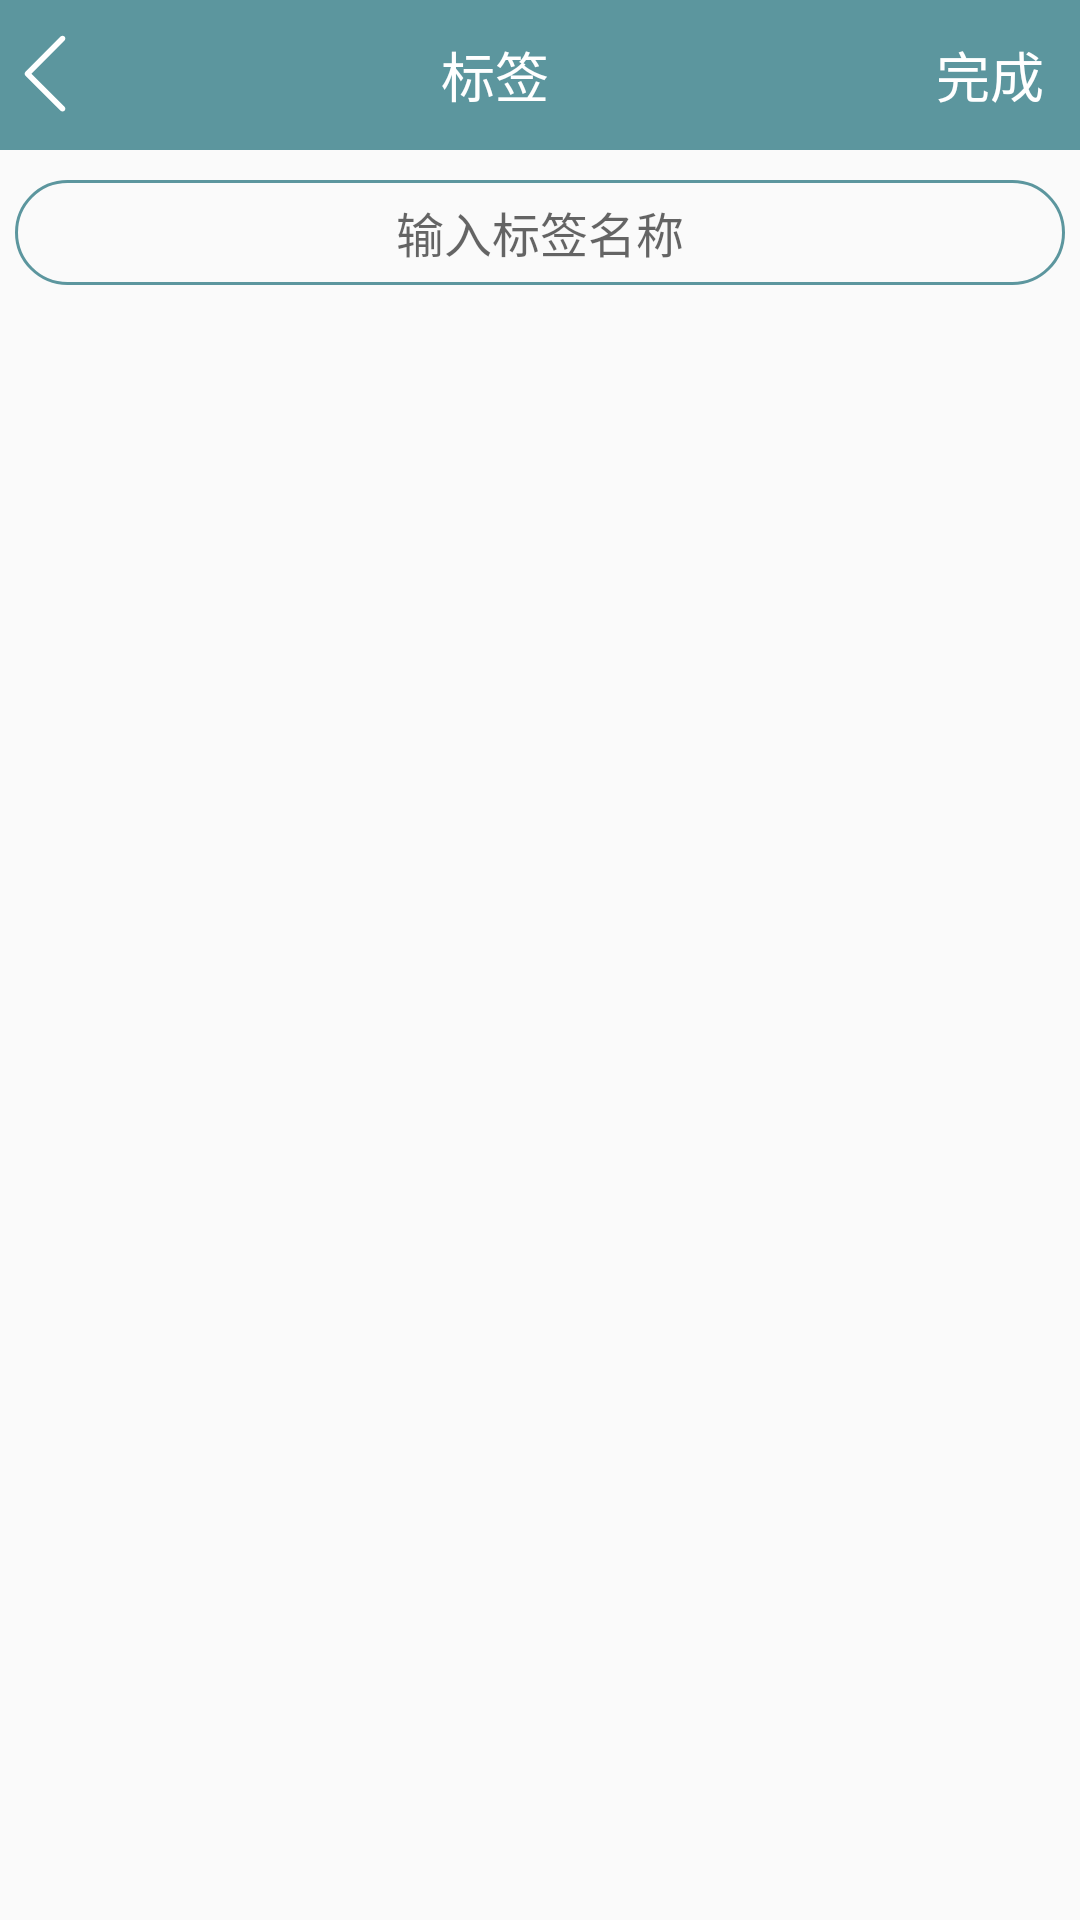

Icons on this 1080*1920 Android screen, each with the point to tap as point (x, y):
back: point (45, 73)
